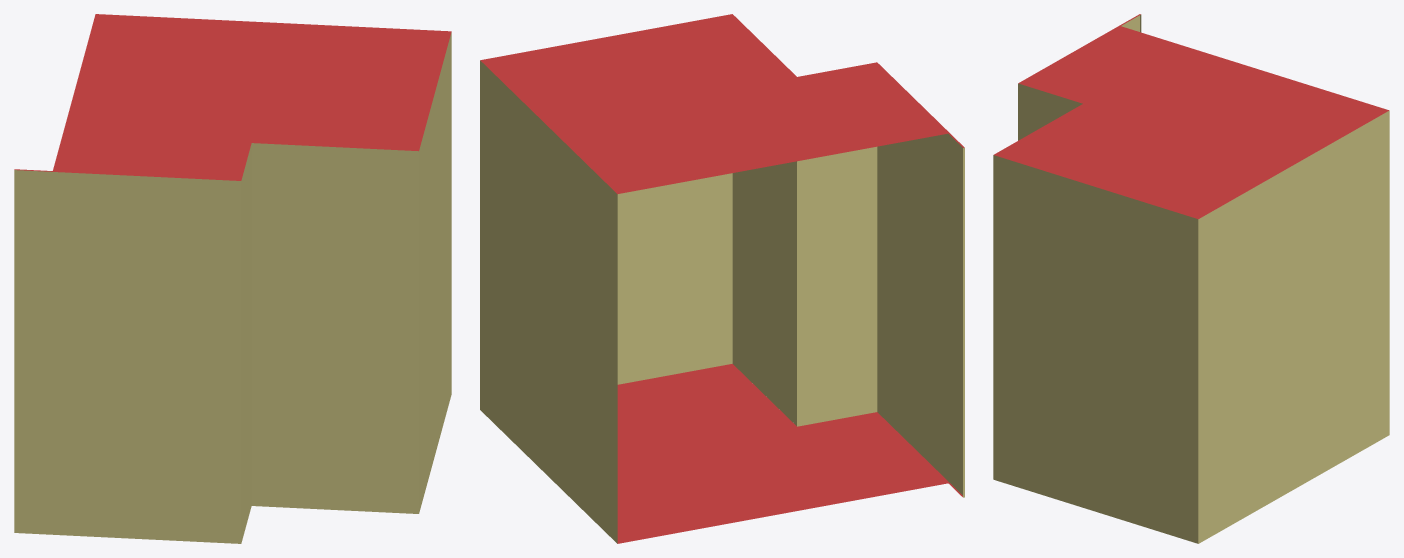
3 renders of one model, left to right at view 1: azimuth 30°, elevation 25°; view 2: azimuth 150°, elevation 25°; view 3: azimuth 270°, elevation 25°, orthographic. The views are drawn at different scales.
Parts seen in each view (by area): view 1: group_4, group_3; view 2: group_4, group_3, group_5; view 3: group_4, group_3.
Part boxes in pixels (x1,y1,x2,y2): group_4: [14, 32, 451, 543]; group_3: [14, 14, 451, 180]; group_4: [480, 60, 964, 543]; group_3: [480, 14, 964, 194]; group_5: [617, 364, 962, 543]; group_4: [993, 14, 1389, 543]; group_3: [994, 14, 1388, 219].
Bounding box in the file's own units: 11.37 × 9.28 × 8.39.
